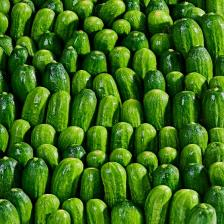green: (1, 2, 224, 224)
